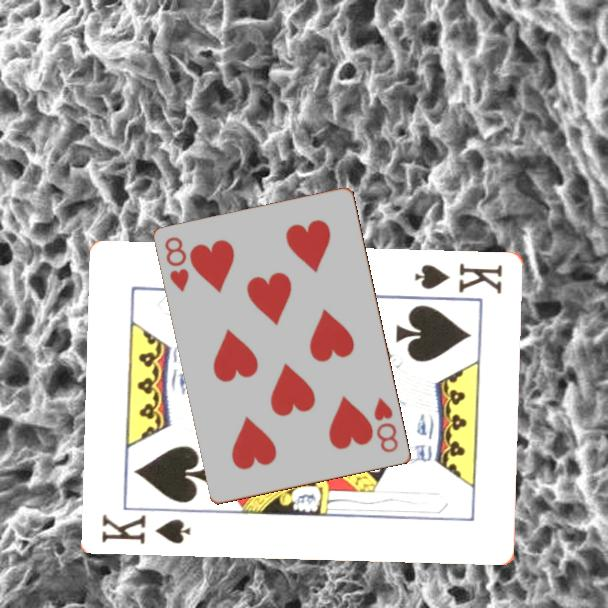h08: (161, 233, 192, 295), (371, 394, 401, 456)
s13: (411, 259, 506, 296), (99, 510, 194, 546)
